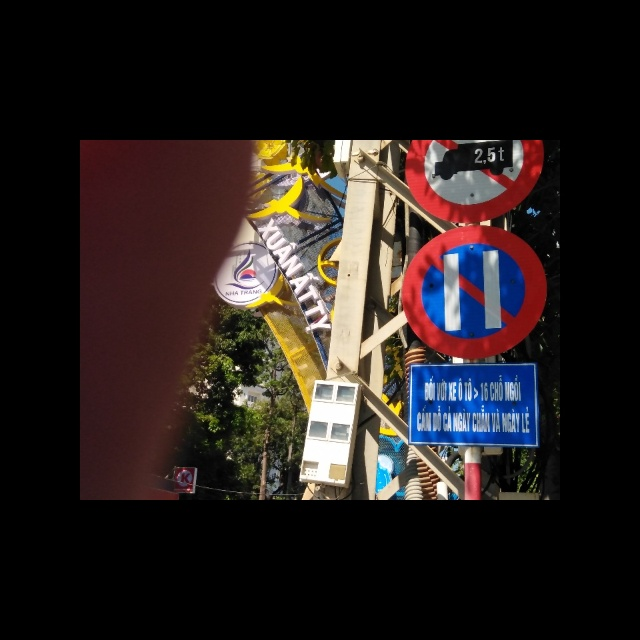Cấm xe tải: (405, 140, 549, 226)
Cấm đỗ xe ngày chẵn: (402, 224, 548, 356)
